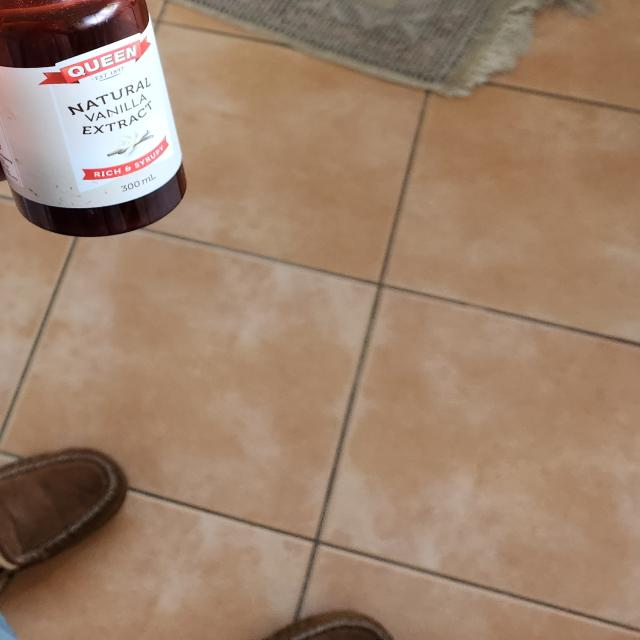vanilla: (0, 0, 188, 239)
